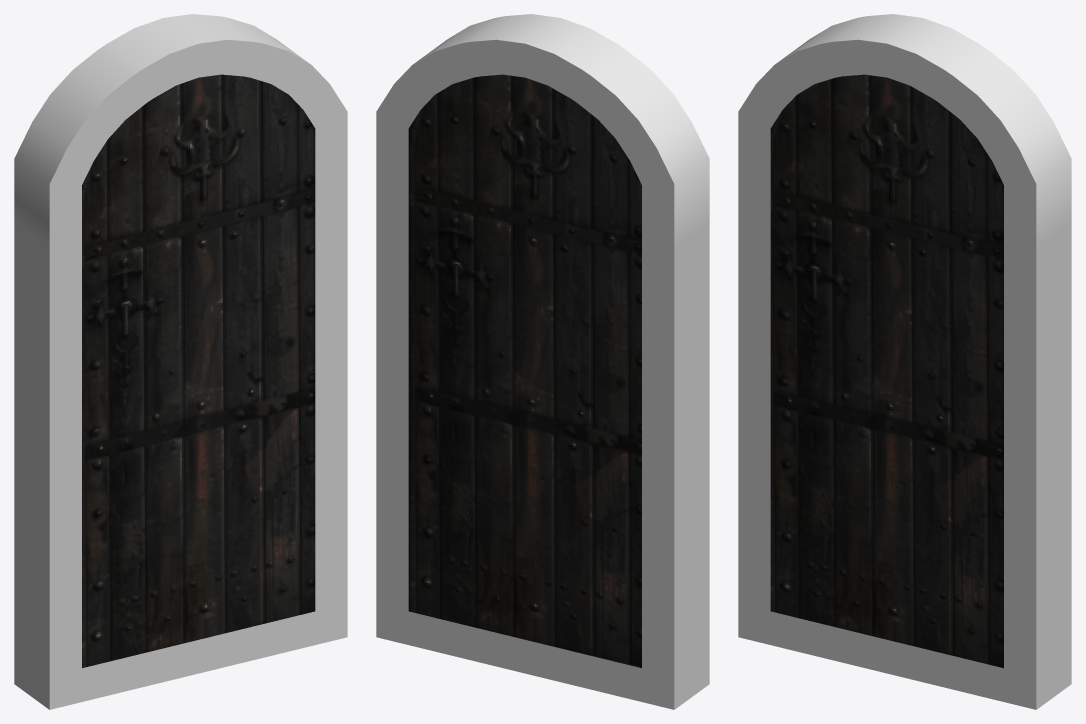
File: Door.fbx
3 views of the same model, side by side, from view 1: azimuth 30°, elevation 25°; view 2: azimuth 150°, elevation 25°; view 3: azimuth 330°, elevation 25° (orthographic).
Visible parts, largest first — view 1: Object, Box006; view 2: Object, Box006; view 3: Object, Box006.
Part boxes in pixels (x1,y1,x2,y2): Object: (82,74,315,668); Box006: (14,14,347,709); Object: (408,74,641,668); Box006: (376,14,709,709); Object: (770,74,1003,668); Box006: (738,14,1071,709).
Bounding box in the file's own units: 27.71 × 5.67 × 55.96.
